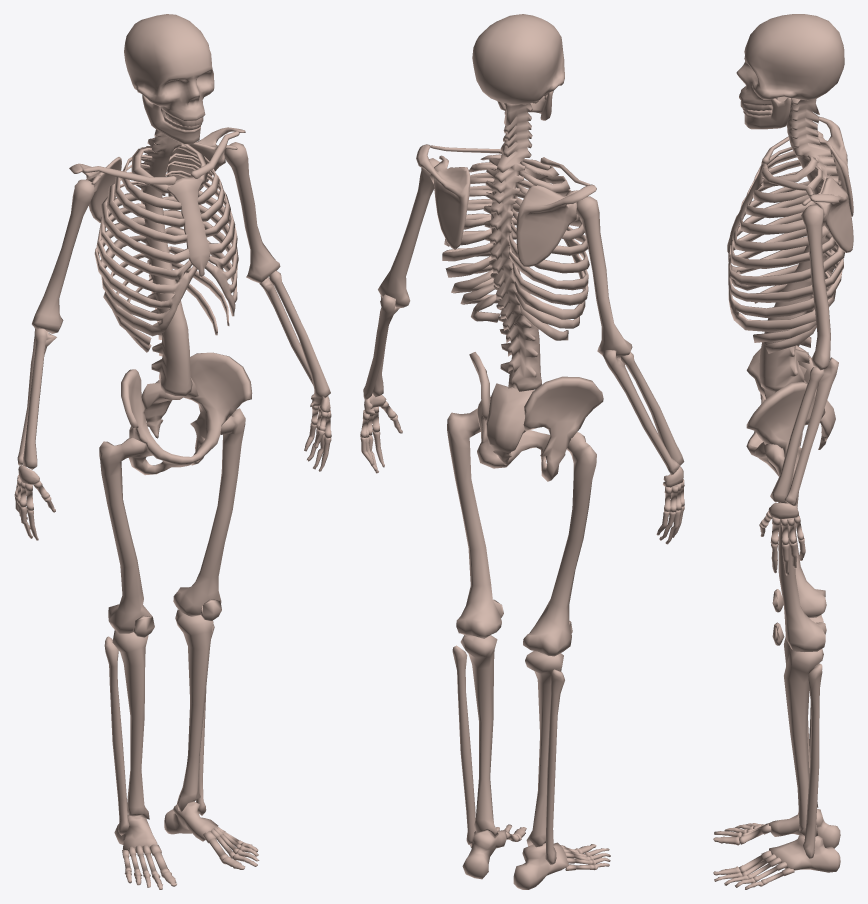
Rendered from Skeleton_Light.FBX.
The picture shows the model from 3 angles, left to right: view 1: azimuth 30°, elevation 25°; view 2: azimuth 150°, elevation 25°; view 3: azimuth 270°, elevation 25°; orthographic projection. The views are drawn at different scales.
Visible parts, largest first — view 1: Group41108, Group31070, Group17702, Group19535, Group40924, Group58724, Group410, Group38689, Group50421, Group63790, Group54347, Group30733 (+5 smaller); view 2: Group41108, Group31070, Group410, Group17702, Group63790, Group19535, Group40924, Group58724, Group50421, Group37188, Group54347, Group39917 (+1 smaller); view 3: Group41108, Group17702, Group410, Group31070, Group40924, Group19535, Group63790, Group54347, Group58724, Group50421, Group37188, Group38689 (+8 smaller).
Part boxes in pixels (x1,y1,x2,y2): Group41108: (94, 143, 238, 352); Group31070: (99, 408, 245, 633); Group17702: (124, 14, 214, 121); Group19535: (112, 609, 213, 819); Group40924: (121, 352, 252, 475); Group58724: (32, 142, 280, 333); Group410: (136, 106, 192, 395); Group38689: (23, 271, 330, 469); Group50421: (104, 624, 214, 835); Group63790: (69, 127, 245, 222); Group54347: (114, 801, 218, 853); Group30733: (167, 177, 209, 277); Group41108: (442, 154, 589, 340); Group31070: (447, 408, 596, 656); Group410: (483, 100, 541, 391); Group17702: (472, 14, 564, 104); Group63790: (416, 144, 596, 266); Group19535: (460, 635, 563, 847); Group40924: (469, 352, 603, 481); Group58724: (378, 158, 632, 357); Group50421: (452, 645, 564, 865); Group37188: (363, 294, 680, 475); Group54347: (462, 830, 568, 889); Group39917: (486, 383, 534, 464); Group41108: (728, 147, 844, 353); Group17702: (736, 14, 844, 105); Group410: (759, 98, 841, 391); Group31070: (764, 444, 826, 651); Group40924: (746, 345, 825, 476); Group19535: (784, 614, 823, 836); Group63790: (802, 116, 853, 252); Group54347: (769, 809, 840, 872); Group58724: (801, 130, 830, 370); Group50421: (803, 663, 822, 859); Group37188: (784, 249, 838, 505); Group38689: (770, 367, 823, 502).
Size of the model in its own units: 478 by 1231 by 186.
